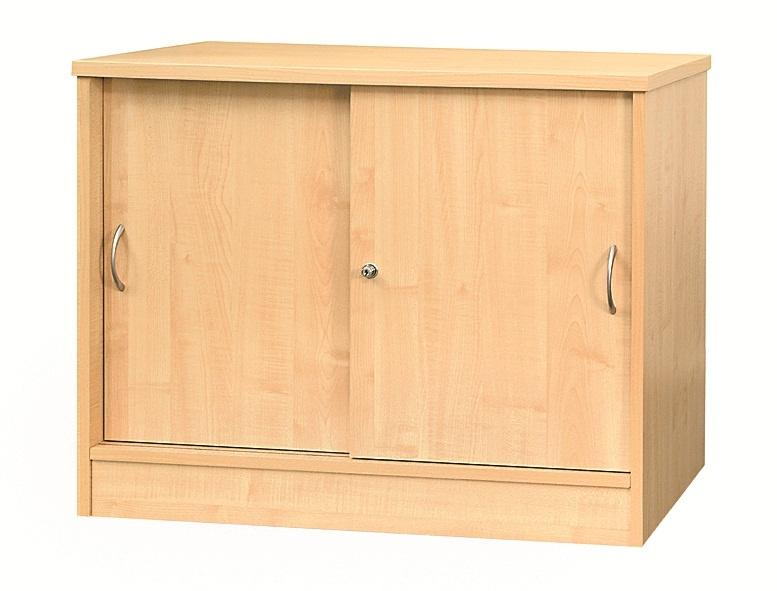cabinet_door: (354, 93, 631, 457), (104, 75, 351, 450)
handle: (107, 222, 132, 295), (601, 238, 621, 317)
